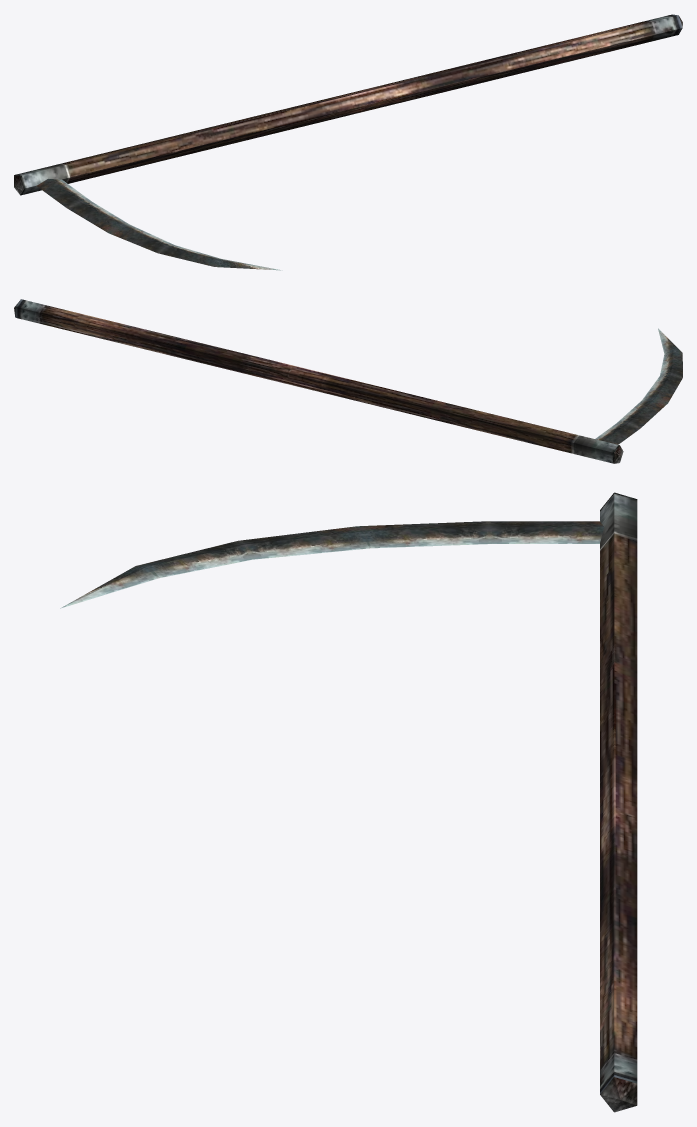
The model's file is KM_ITMW_2H_BAU_SCYTHE.glb.
3 renders of one model, top to bottom at view 1: azimuth 30°, elevation 25°; view 2: azimuth 150°, elevation 25°; view 3: azimuth 270°, elevation 25°, orthographic. The views are drawn at different scales.
Parts seen in each view (by area): view 1: KM_ITMW_2H_BAU_SCYTHE; view 2: KM_ITMW_2H_BAU_SCYTHE; view 3: KM_ITMW_2H_BAU_SCYTHE.
Boxes of the visible parts, bbox=[...] form: KM_ITMW_2H_BAU_SCYTHE: bbox=[14, 14, 682, 270]; KM_ITMW_2H_BAU_SCYTHE: bbox=[14, 299, 682, 463]; KM_ITMW_2H_BAU_SCYTHE: bbox=[60, 492, 637, 1112].
Bounding box in the file's own units: 1.57 × 0.0441 × 0.6485.
Materials: 2 (2 with a texture image).
